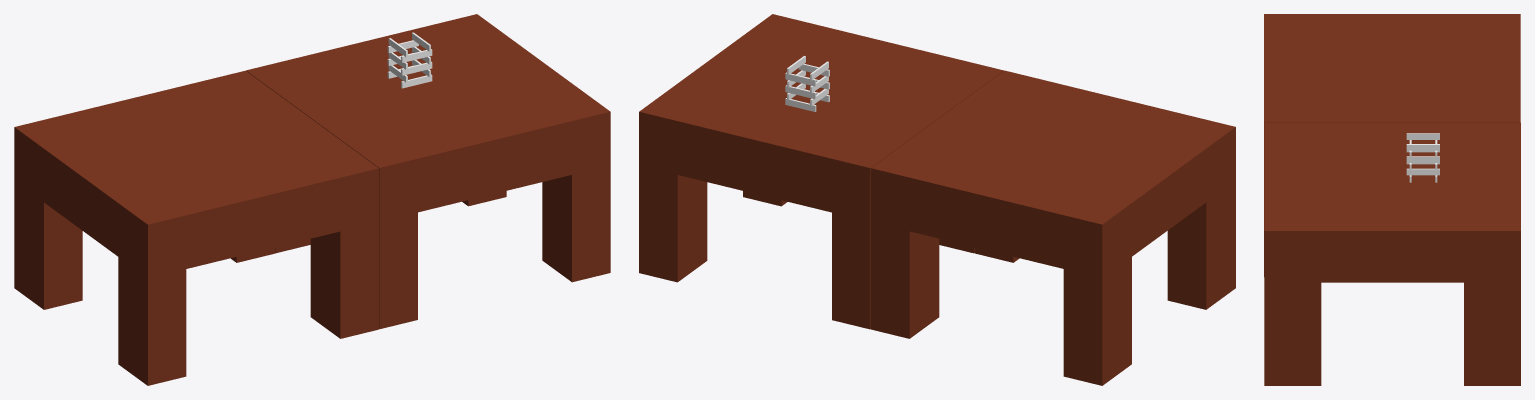
The model's file is keva_tower_12.dae.
The picture shows the model from 3 angles, left to right: view 1: azimuth 30°, elevation 25°; view 2: azimuth 150°, elevation 25°; view 3: azimuth 270°, elevation 25°; orthographic projection. The views are drawn at different scales.
Visible parts, largest first — view 1: base (×7); view 2: base (×7); view 3: base (×5), SketchUp (×3).
Part boxes in pixels (x1,y1,x2,y2): base (×7): (14, 14, 610, 385); base (×7): (639, 14, 1235, 385); base (×5): (1264, 14, 1520, 385); SketchUp (×3): (1406, 133, 1439, 162).
Bounding box in the file's own units: 1.8 × 0.9009 × 0.742.
